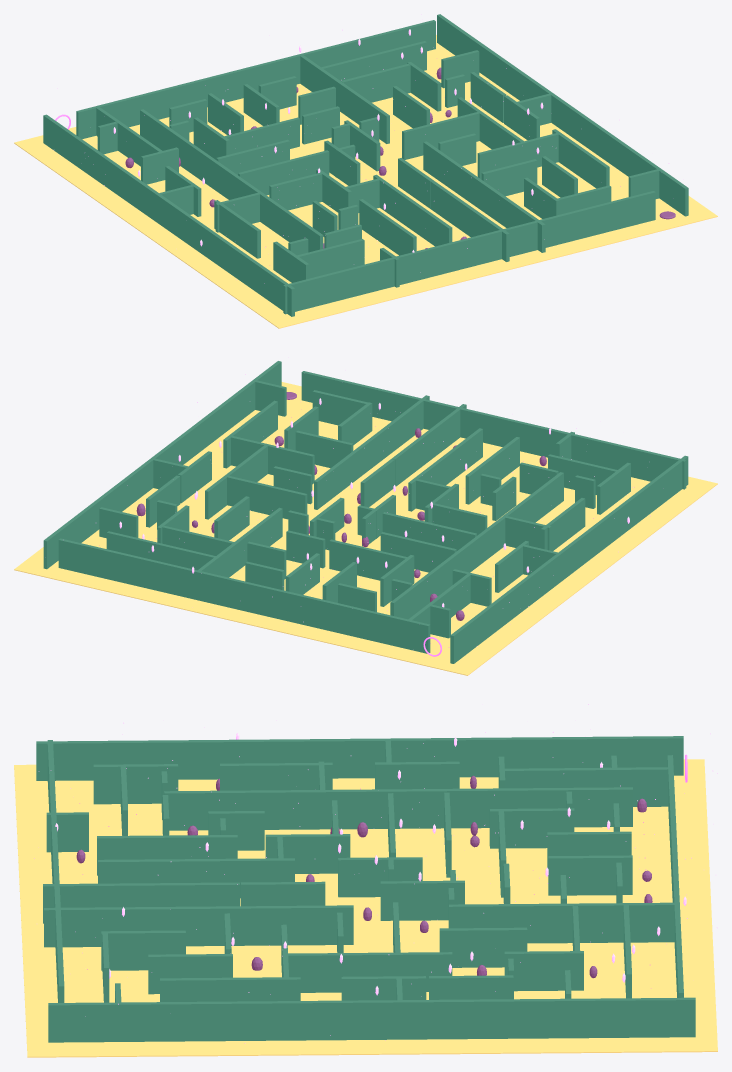
Rendered from ambiente_laberinto.glb.
The picture shows the model from 3 angles, top to bottom: view 1: azimuth 30°, elevation 25°; view 2: azimuth 150°, elevation 25°; view 3: azimuth 270°, elevation 25°; orthographic projection. The views are drawn at different scales.
Parts seen in each view (by area): view 1: Cube, Muro_Monolitico_Largo.032, Muro_Monolitico_Largo.028, Muro_Monolitico_Largo.066, Muro_Monolitico_Largo, Muro_Monolitico_Largo.024, Muro_Monolitico_Largo.009, Muro_Monolitico_Largo.029, Muro_Monolitico_Largo.010, Muro_Monolitico_Largo.014, Muro_Monolitico_Largo.011, Muro_Monolitico_Largo.061 (+47 smaller); view 2: Cube, Muro_Monolitico_Largo.066, Muro_Monolitico_Largo.028, Muro_Monolitico_Largo, Muro_Monolitico_Largo.032, Muro_Monolitico_Largo.024, Muro_Monolitico_Largo.009, Muro_Monolitico_Largo.029, Muro_Monolitico_Largo.011, Muro_Monolitico_Largo.048, Muro_Monolitico_Largo.010, Muro_Monolitico_Largo.061 (+47 smaller); view 3: Cube, Muro_Monolitico_Largo, Muro_Monolitico_Largo.028, Muro_Monolitico_Largo.024, Muro_Monolitico_Largo.009, Muro_Monolitico_Largo.010, Muro_Monolitico_Largo.014, Muro_Monolitico_Largo.011, Muro_Monolitico_Largo.005, Muro_Monolitico_Largo.063, Muro_Monolitico_Largo.017, Muro_Monolitico_Largo.001 (+22 smaller).
Part boxes in pixels (left/top/right/bottom): Cube: left=14, top=35, right=717, bottom=328; Muro_Monolitico_Largo.032: left=283, top=212, right=576, bottom=314; Muro_Monolitico_Largo.028: left=43, top=114, right=294, bottom=316; Muro_Monolitico_Largo.066: left=76, top=20, right=435, bottom=139; Muro_Monolitico_Largo: left=437, top=14, right=688, bottom=216; Muro_Monolitico_Largo.024: left=140, top=109, right=323, bottom=252; Muro_Monolitico_Largo.009: left=423, top=141, right=545, bottom=252; Muro_Monolitico_Largo.029: left=546, top=191, right=655, bottom=246; Muro_Monolitico_Largo.010: left=299, top=55, right=389, bottom=143; Muro_Monolitico_Largo.014: left=373, top=174, right=452, bottom=246; Muro_Monolitico_Largo.011: left=430, top=181, right=509, bottom=261; Muro_Monolitico_Largo.061: left=317, top=41, right=426, bottom=90; Cube: left=14, top=382, right=717, bottom=675; Muro_Monolitico_Largo.066: left=58, top=538, right=430, bottom=653; Muro_Monolitico_Largo.028: left=450, top=455, right=688, bottom=663; Muro_Monolitico_Largo: left=43, top=361, right=281, bottom=569; Muro_Monolitico_Largo.032: left=384, top=391, right=686, bottom=489; Muro_Monolitico_Largo.024: left=390, top=472, right=563, bottom=619; Muro_Monolitico_Largo.009: left=314, top=395, right=429, bottom=509; Muro_Monolitico_Largo.029: left=301, top=371, right=413, bottom=421; Muro_Monolitico_Largo.011: left=391, top=404, right=466, bottom=486; Muro_Monolitico_Largo.048: left=227, top=476, right=307, bottom=519; Muro_Monolitico_Largo.010: left=197, top=507, right=282, bottom=577; Muro_Monolitico_Largo.061: left=106, top=531, right=219, bottom=575; Cube: left=14, top=759, right=717, bottom=1057; Muro_Monolitico_Largo: left=48, top=997, right=695, bottom=1042; Muro_Monolitico_Largo.028: left=36, top=736, right=683, bottom=780; Muro_Monolitico_Largo.024: left=164, top=787, right=632, bottom=830; Muro_Monolitico_Largo.009: left=44, top=905, right=353, bottom=947; Muro_Monolitico_Largo.010: left=449, top=902, right=676, bottom=943; Muro_Monolitico_Largo.014: left=98, top=858, right=294, bottom=898; Muro_Monolitico_Largo.011: left=43, top=882, right=239, bottom=923; Muro_Monolitico_Largo.005: left=283, top=952, right=452, bottom=992; Muro_Monolitico_Largo.063: left=504, top=767, right=671, bottom=806; Muro_Monolitico_Largo.017: left=97, top=835, right=237, bottom=875; Muro_Monolitico_Largo.001: left=160, top=977, right=300, bottom=1001.
Bounding box in the file's own units: 65.46 × 7.02 × 65.03.
